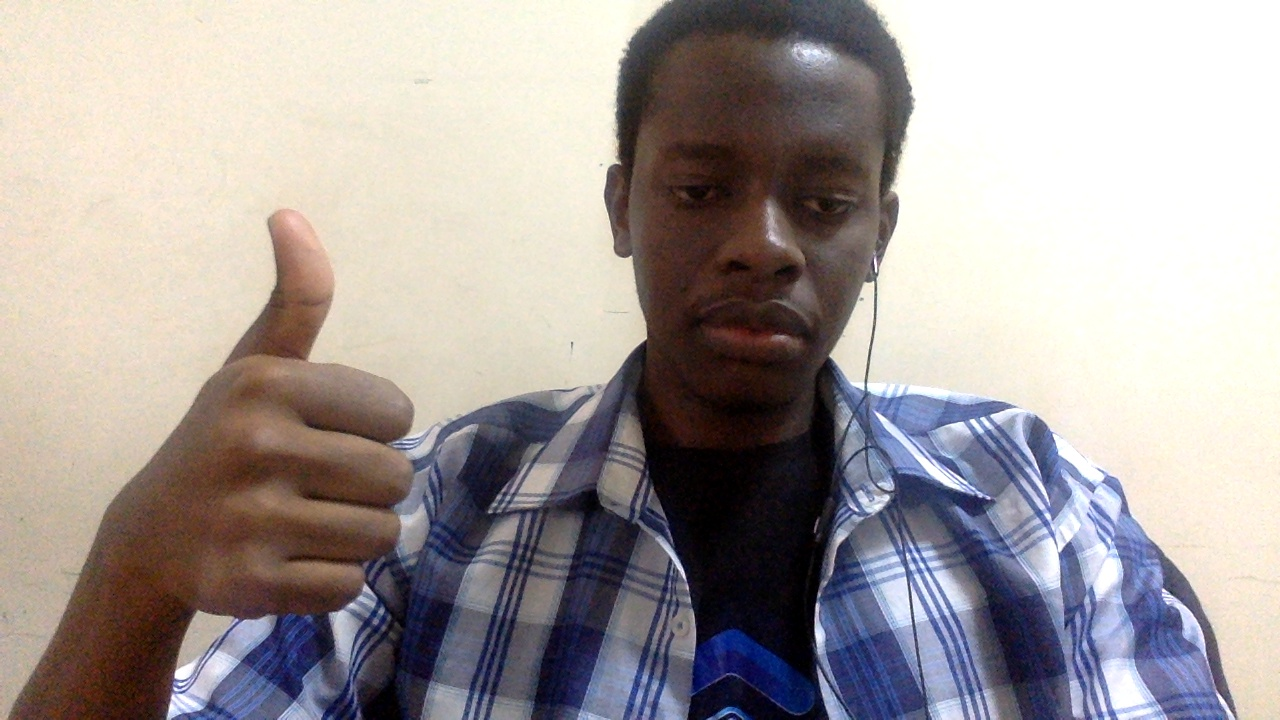ThumbsUp: (144, 206, 419, 622)
